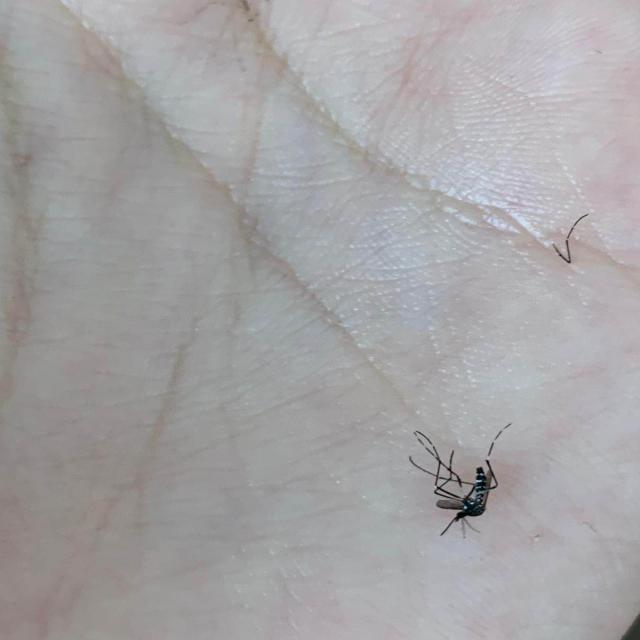albopictus: (401, 414, 518, 540)
